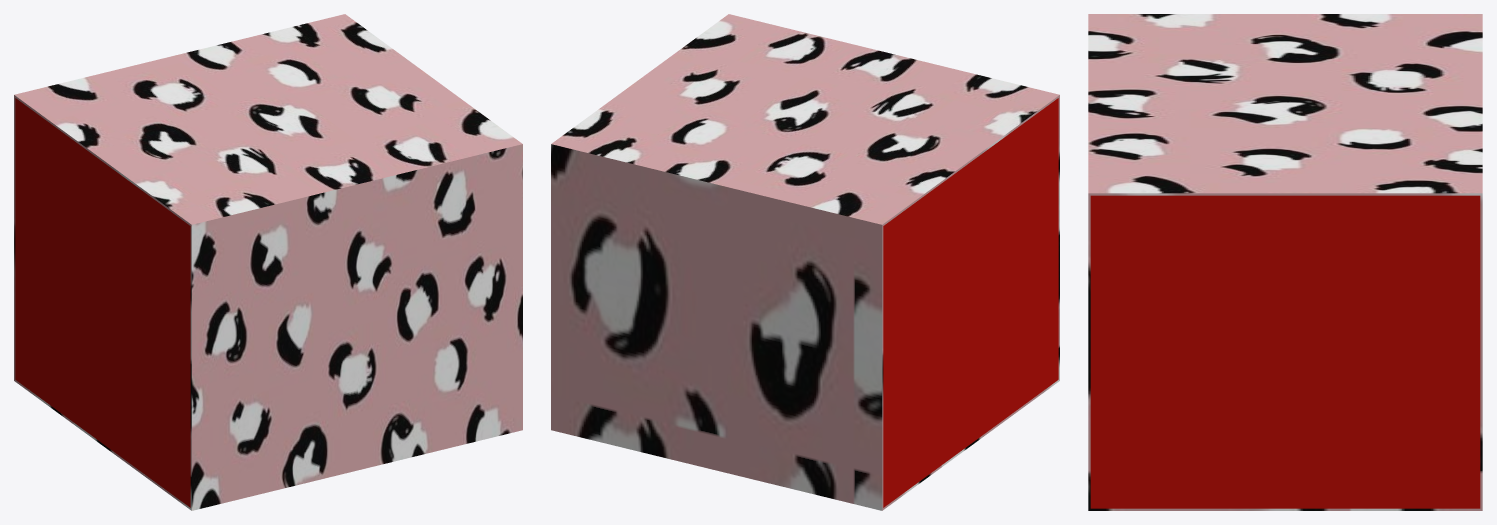
3 renders of one model, left to right at view 1: azimuth 30°, elevation 25°; view 2: azimuth 150°, elevation 25°; view 3: azimuth 270°, elevation 25°, orthographic. The views are drawn at different scales.
Parts seen in each view (by area): view 1: MIN#5.001_Mesh_16.005, MAXI_EDXTRA#1.001_Mesh_31.004; view 2: MIN#5.001_Mesh_16.005, MAXI_EDXTRA#1.001_Mesh_31.004; view 3: MAXI_EDXTRA#1.001_Mesh_31.004, MIN#5.001_Mesh_16.005.
Part boxes in pixels (x1=…): MIN#5.001_Mesh_16.005: x1=14, y1=14, x2=522, y2=510; MAXI_EDXTRA#1.001_Mesh_31.004: x1=15, y1=98, x2=190, y2=507; MIN#5.001_Mesh_16.005: x1=551, y1=14, x2=1059, y2=510; MAXI_EDXTRA#1.001_Mesh_31.004: x1=883, y1=98, x2=1058, y2=507; MAXI_EDXTRA#1.001_Mesh_31.004: x1=1090, y1=195, x2=1480, y2=508; MIN#5.001_Mesh_16.005: x1=1088, y1=14, x2=1482, y2=510.
Size of the model in its own units: 0.327 by 0.27 by 0.304.
2 materials, 1 textured.
